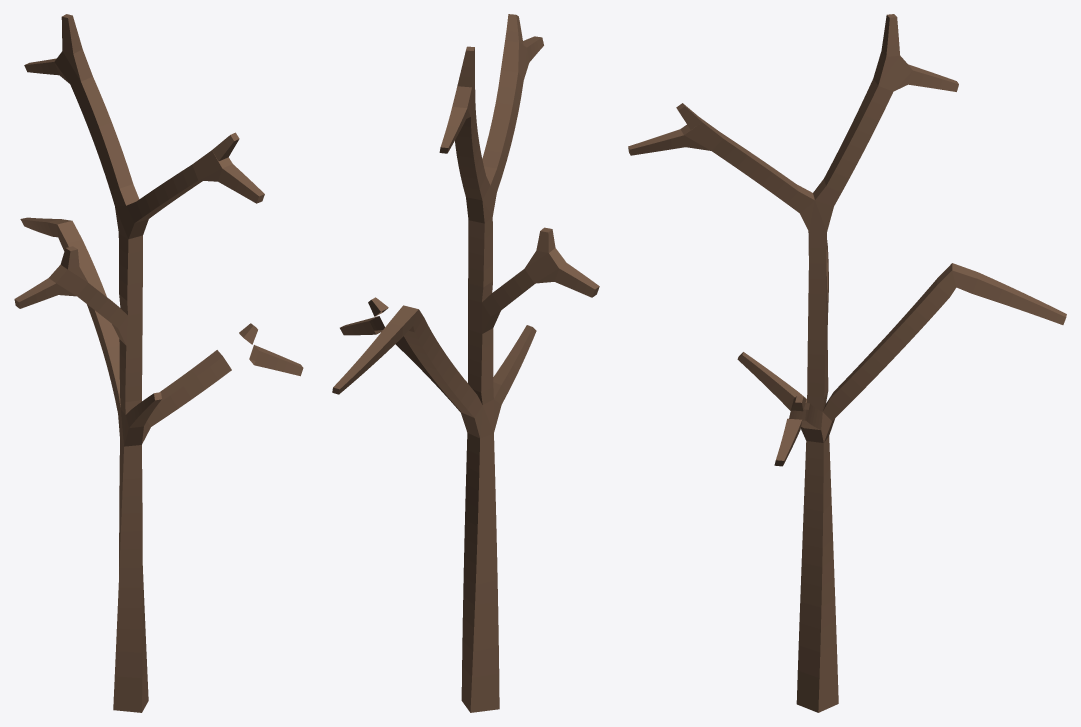
The model's file is Plant1.fbx.
The picture shows the model from 3 angles, left to right: view 1: azimuth 30°, elevation 25°; view 2: azimuth 150°, elevation 25°; view 3: azimuth 270°, elevation 25°; orthographic projection. The views are drawn at different scales.
Visible parts, largest first — view 1: Plant1; view 2: Plant1; view 3: Plant1.
Part boxes in pixels (x1,y1,x2,y2): Plant1: [14, 14, 303, 712]; Plant1: [332, 14, 599, 712]; Plant1: [628, 14, 1066, 712].
Size of the model in its own units: 132 by 316 by 186.
